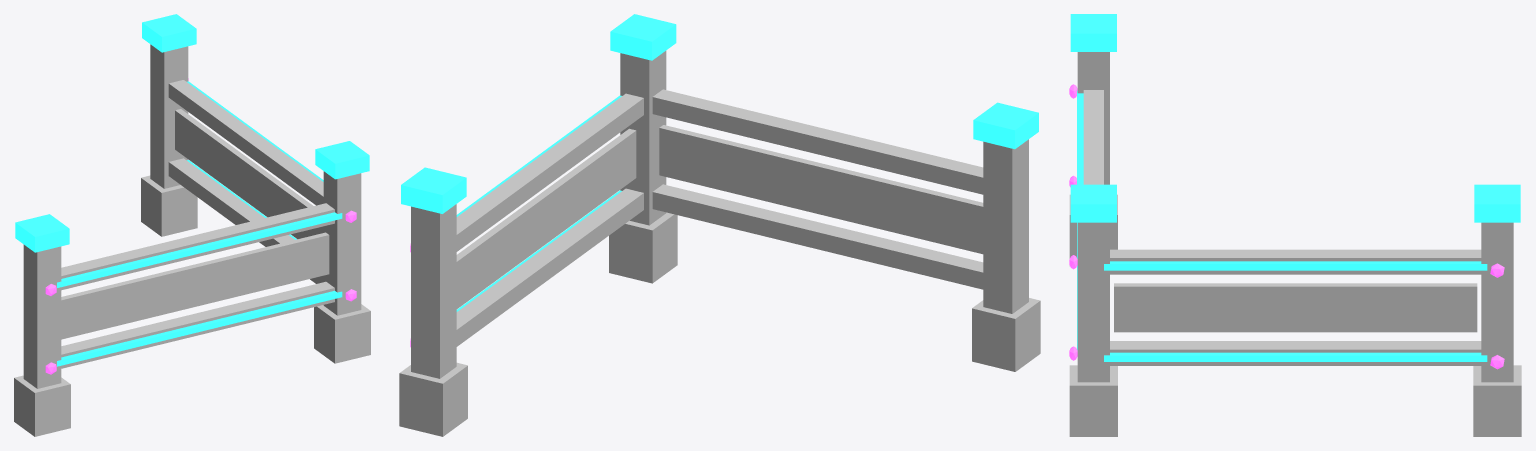
3 views of the same model, side by side, from view 1: azimuth 30°, elevation 25°; view 2: azimuth 150°, elevation 25°; view 3: azimuth 270°, elevation 25° (orthographic). The views are drawn at different scales.
Parts seen in each view (by area): view 1: Neon_FenceCorner_Showcase; view 2: Neon_FenceCorner_Showcase; view 3: Neon_FenceCorner_Showcase.
Part boxes in pixels (x1,y1,x2,y2): Neon_FenceCorner_Showcase: (14, 14, 370, 436); Neon_FenceCorner_Showcase: (399, 14, 1040, 436); Neon_FenceCorner_Showcase: (1069, 14, 1521, 436).
Bounding box in the file's own units: 2.24 × 1.27 × 2.24.
